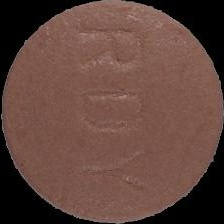0615-6587: (0, 0, 224, 224)
